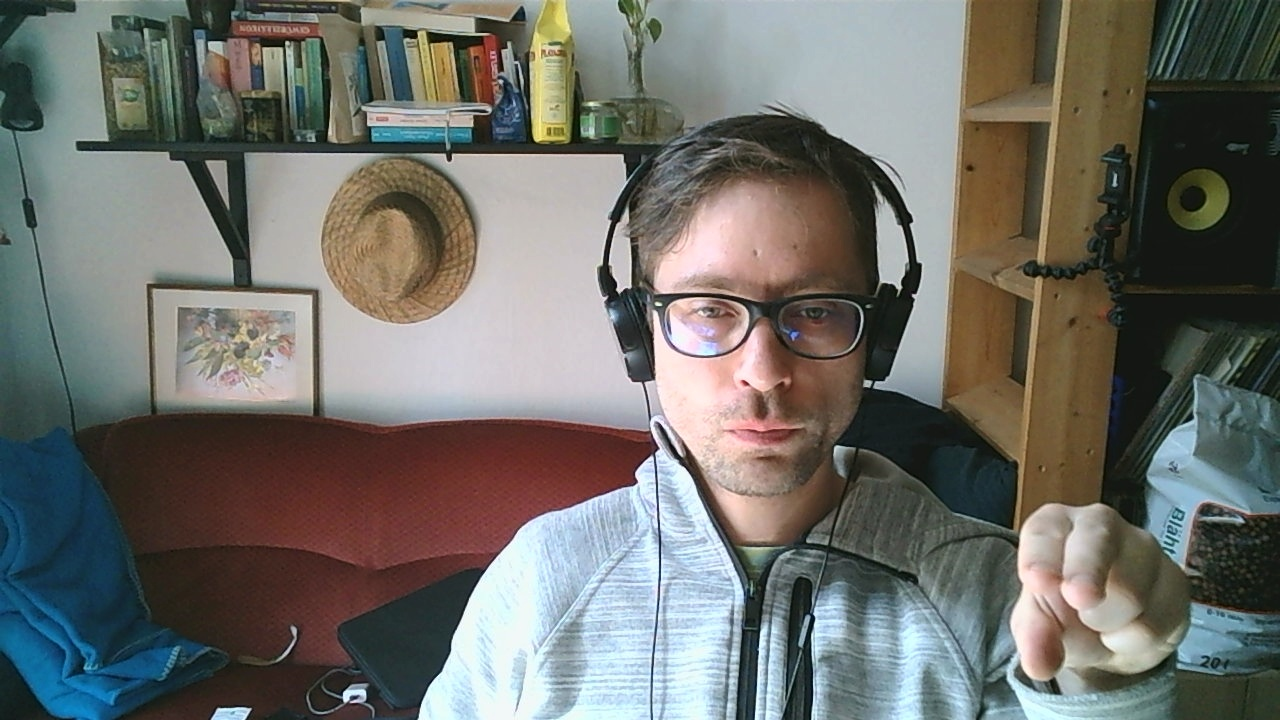no: (1009, 499, 1195, 680)
